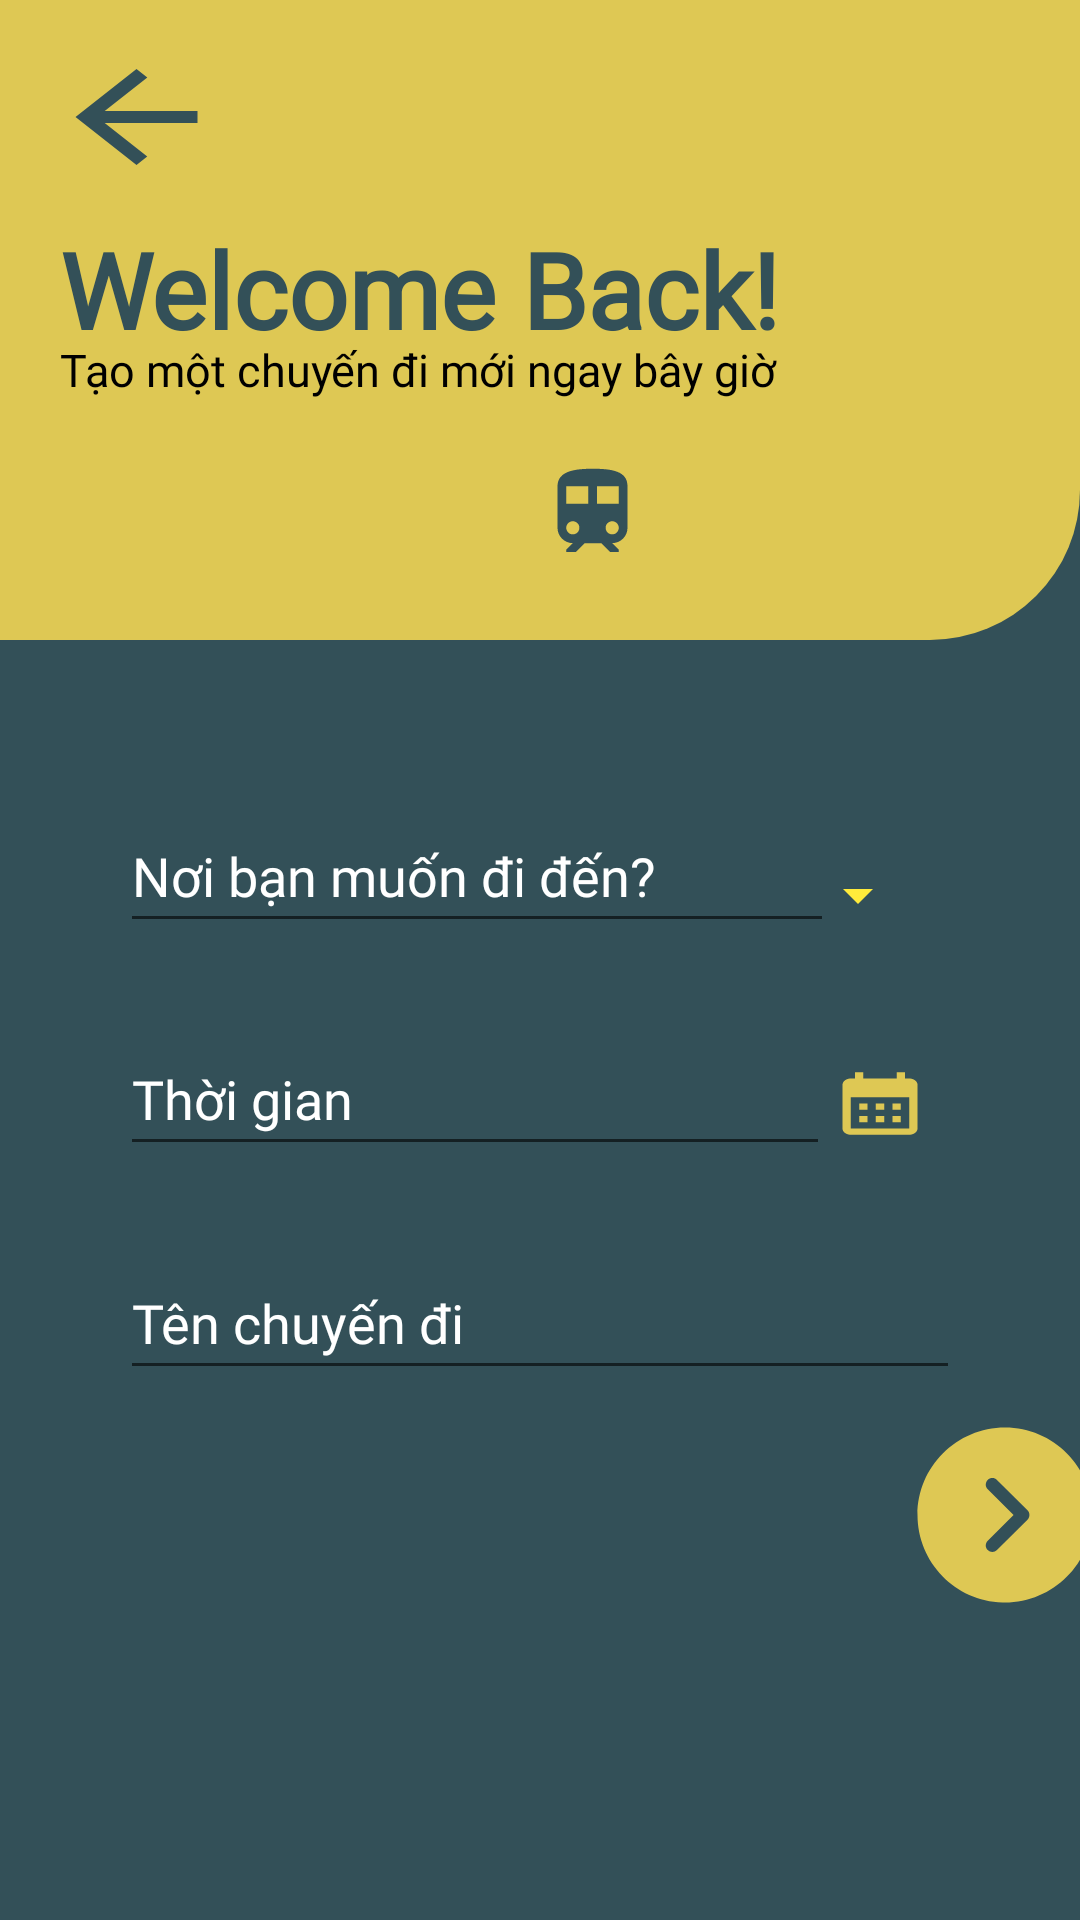

Icons on this 1080*1920 Android screen, each with the point to tap as (x=x, y=y):
arrow back: (x=137, y=117)
train: (x=592, y=510)
